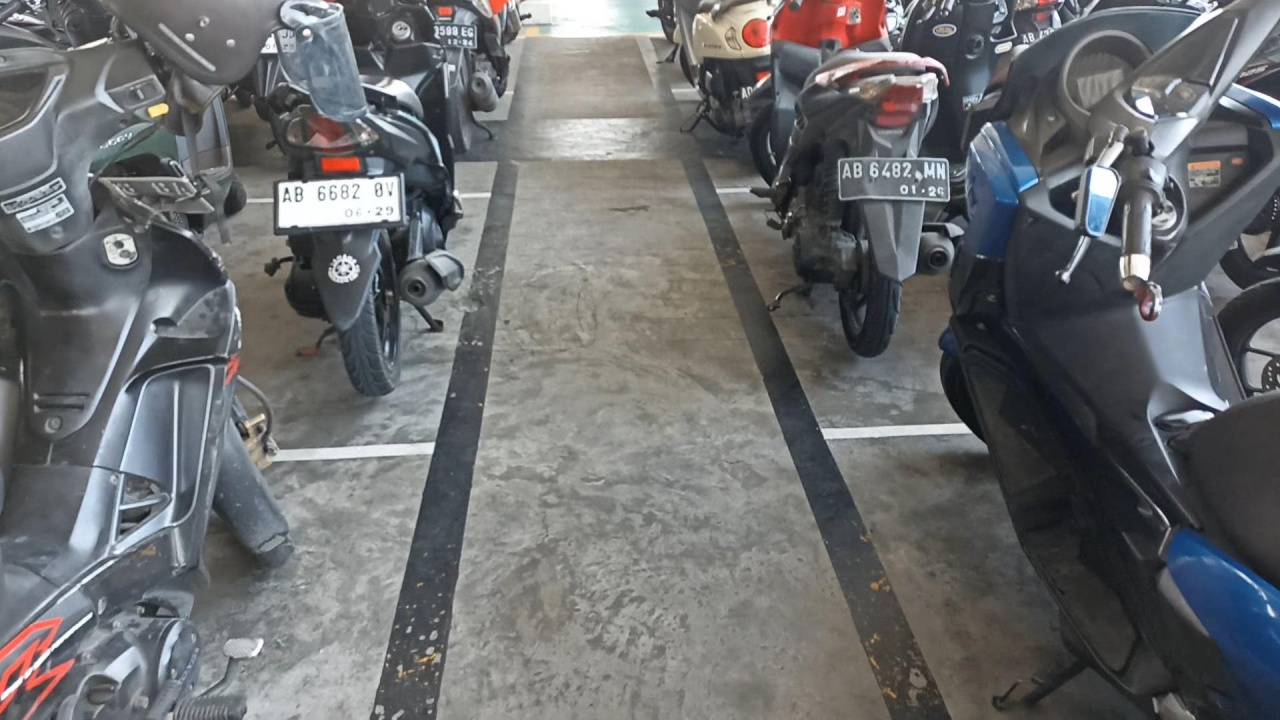plate: (278, 174, 403, 230), (839, 158, 949, 201)
